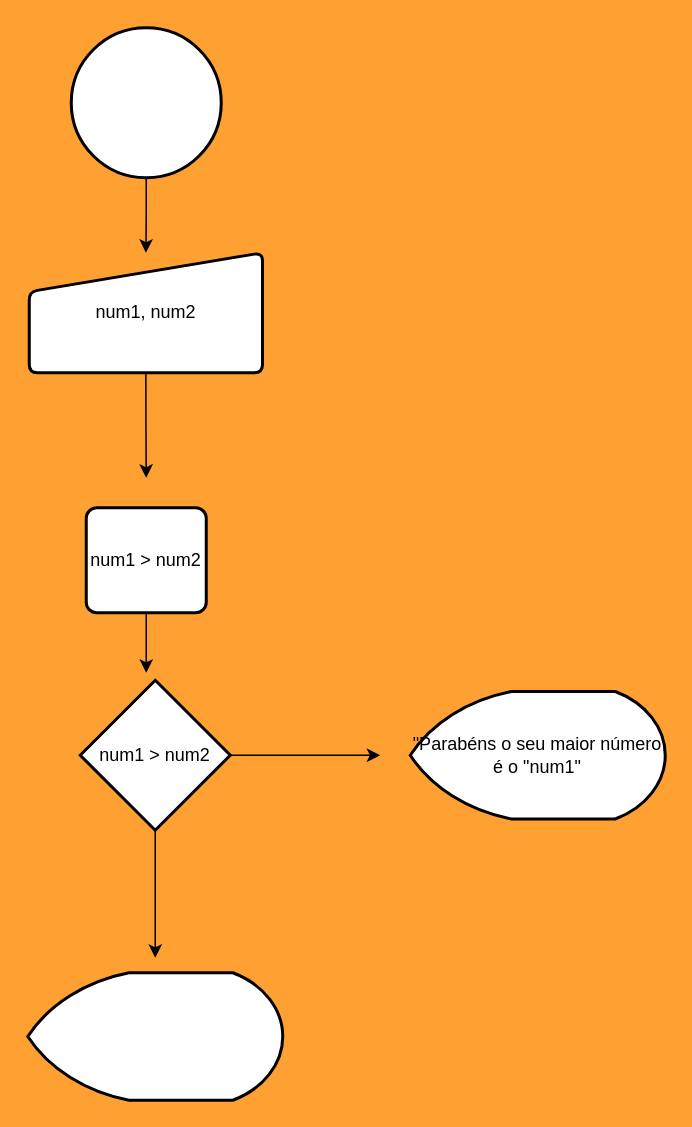
This 692x1127 diagram has some shape labels left out. The box of each missing label's shape, as (x1, y1, x2, y2) in pixels:
"Parabéns o seu maior número é o "num2": (26, 970, 284, 1101)
Início: (69, 26, 222, 178)
